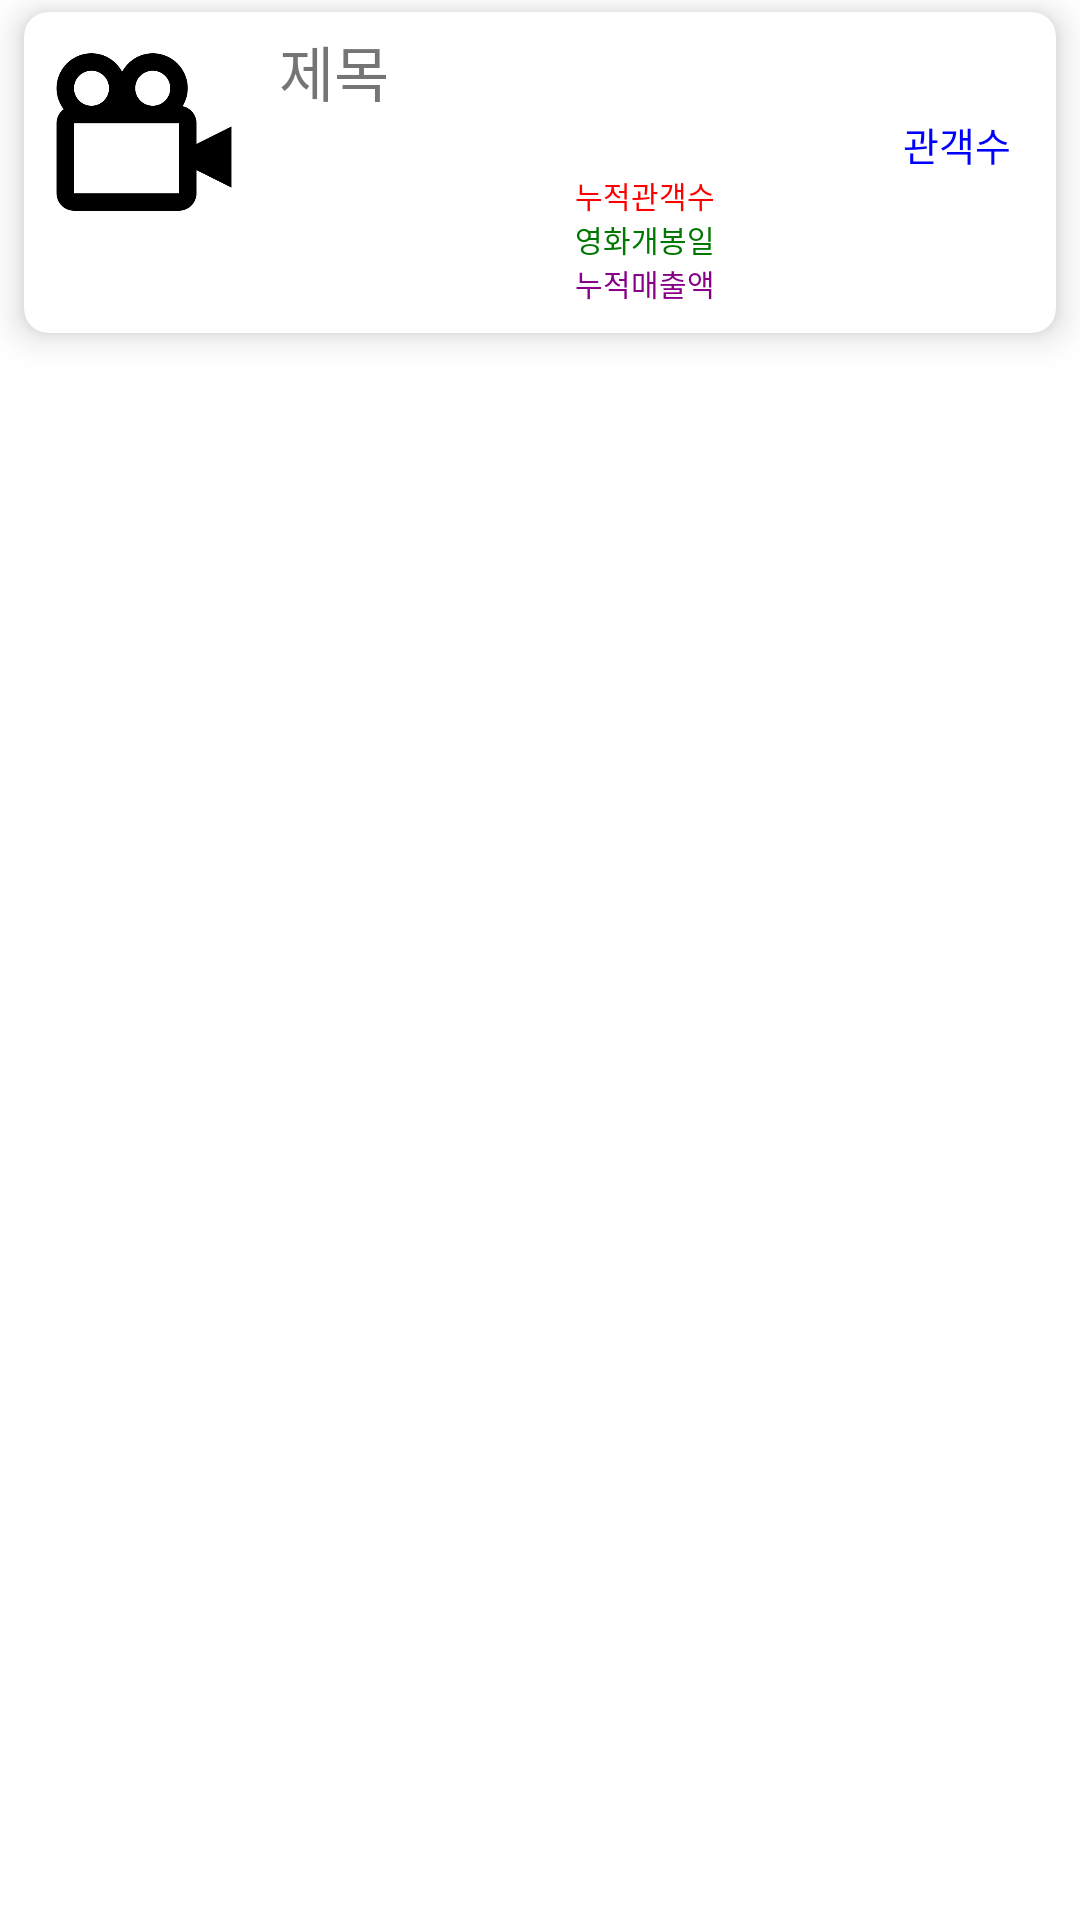

Icon click points for this 1080px×1920px phone screenshot, format [x,y]:
movie: [133,112]
